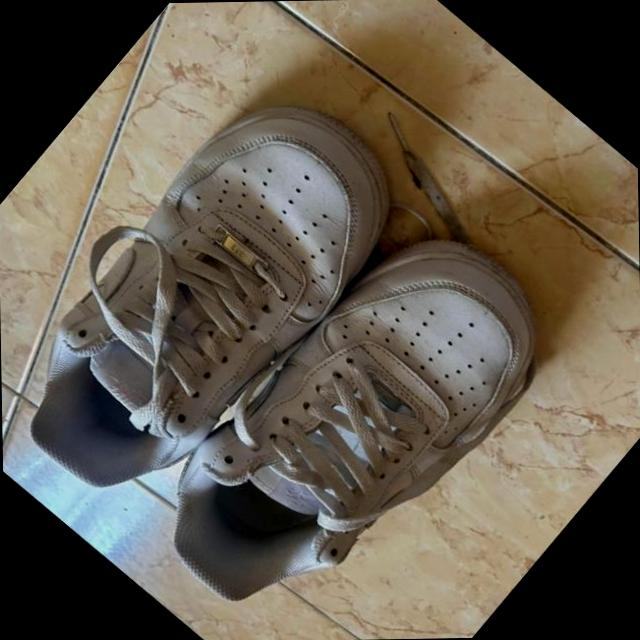nike_fake_airforce: (129, 184, 591, 640), (0, 47, 431, 532)
